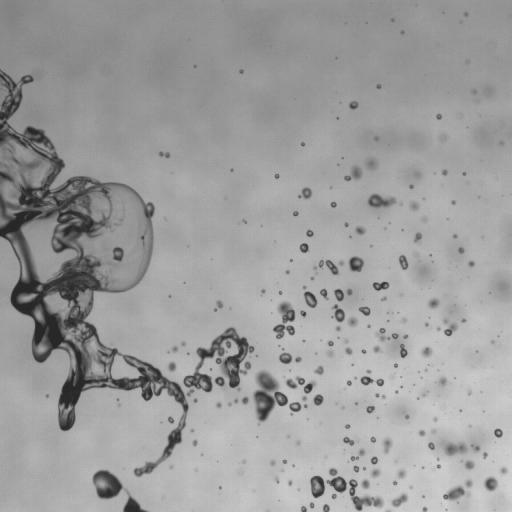droplet: (272, 300, 296, 339), (442, 441, 468, 456), (442, 317, 458, 336), (344, 165, 362, 181), (389, 492, 408, 507), (331, 303, 345, 322), (348, 256, 364, 272), (483, 476, 498, 491), (392, 469, 406, 485), (364, 157, 378, 170), (372, 281, 389, 291), (382, 437, 392, 454), (298, 187, 312, 199), (427, 297, 440, 309), (420, 346, 433, 358), (460, 459, 474, 470), (398, 254, 408, 269), (416, 388, 429, 399), (435, 376, 449, 386), (312, 394, 324, 405), (369, 467, 381, 478), (333, 288, 343, 301), (358, 306, 371, 316), (347, 316, 358, 327), (6, 115, 17, 126), (13, 122, 24, 133), (408, 190, 419, 201), (9, 259, 20, 270), (339, 263, 350, 274), (265, 287, 276, 298), (291, 300, 302, 311), (430, 315, 441, 326), (23, 316, 34, 327), (102, 336, 113, 347), (389, 339, 400, 350), (333, 341, 344, 352), (51, 347, 62, 358), (316, 354, 327, 365), (245, 369, 256, 380), (57, 371, 68, 382), (429, 382, 440, 393), (192, 387, 203, 398), (78, 389, 89, 400), (285, 389, 296, 400), (246, 399, 257, 410), (358, 437, 369, 448), (434, 440, 445, 451), (371, 444, 382, 455), (434, 444, 445, 455), (464, 449, 475, 460), (439, 453, 450, 464), (358, 455, 369, 466), (283, 467, 294, 478), (115, 470, 126, 481), (379, 470, 390, 481), (353, 471, 364, 482), (473, 478, 484, 489), (354, 486, 365, 497), (365, 486, 376, 497), (116, 492, 127, 503), (319, 492, 330, 503), (213, 300, 223, 311), (166, 361, 176, 372), (313, 365, 324, 375), (413, 232, 422, 244), (320, 288, 329, 300), (409, 201, 419, 211), (355, 225, 365, 235), (299, 243, 309, 253), (372, 344, 383, 353), (166, 345, 178, 353), (348, 100, 358, 109), (438, 133, 448, 142), (240, 395, 250, 404), (499, 466, 508, 476), (494, 428, 502, 439), (361, 478, 369, 489), (158, 151, 170, 158), (20, 83, 29, 92), (368, 149, 377, 158), (376, 159, 385, 168), (360, 167, 369, 176), (48, 181, 57, 190), (412, 209, 421, 218), (454, 237, 463, 246), (461, 252, 470, 261), (269, 302, 278, 311), (390, 314, 399, 323), (273, 315, 282, 324), (351, 345, 360, 354), (168, 352, 177, 361), (243, 352, 252, 361), (160, 368, 169, 377), (352, 379, 361, 388), (416, 379, 425, 388), (279, 384, 288, 393), (133, 386, 142, 395), (115, 387, 124, 396), (52, 388, 61, 397), (180, 428, 189, 437), (423, 433, 432, 442), (450, 436, 459, 445), (374, 439, 383, 448), (349, 445, 358, 454), (452, 451, 461, 460), (109, 466, 118, 475), (464, 469, 473, 478), (490, 469, 499, 478), (321, 472, 330, 481), (324, 484, 333, 493), (316, 495, 325, 504), (382, 499, 391, 508), (470, 444, 480, 452), (344, 347, 353, 355), (325, 349, 334, 357), (366, 405, 375, 413), (370, 456, 378, 465), (361, 505, 372, 511), (394, 505, 405, 511), (322, 503, 330, 511), (306, 229, 313, 237), (467, 260, 475, 267), (299, 310, 306, 318), (326, 340, 334, 347), (215, 401, 222, 409), (428, 442, 435, 450), (414, 171, 421, 178), (389, 372, 396, 379), (418, 429, 425, 436), (370, 436, 377, 443), (236, 468, 243, 475), (12, 75, 19, 82), (32, 122, 39, 129), (43, 129, 50, 136), (344, 168, 351, 175), (98, 176, 105, 183), (380, 192, 387, 199), (414, 196, 421, 203), (402, 202, 409, 209), (377, 205, 384, 212), (150, 214, 157, 221), (357, 220, 364, 227), (348, 224, 355, 231), (351, 231, 358, 238), (303, 236, 310, 243), (412, 242, 419, 249), (353, 250, 360, 257), (150, 252, 157, 259), (285, 262, 292, 269), (343, 262, 350, 269), (10, 278, 17, 285), (92, 289, 99, 296), (327, 290, 334, 297), (4, 291, 11, 298), (314, 292, 321, 299), (426, 293, 433, 300), (278, 295, 285, 302), (337, 301, 344, 308), (302, 304, 309, 311), (433, 305, 440, 312), (10, 307, 17, 314), (293, 311, 300, 318), (84, 315, 91, 322), (448, 316, 455, 323), (340, 319, 347, 326), (456, 321, 463, 328), (217, 327, 224, 334), (384, 329, 391, 336), (236, 330, 243, 337), (396, 336, 403, 343), (246, 338, 253, 345), (373, 338, 380, 345), (377, 340, 384, 347), (419, 341, 426, 348), (203, 342, 210, 349), (366, 347, 373, 354), (50, 348, 57, 355), (45, 355, 52, 362), (193, 355, 200, 362), (424, 355, 431, 362), (438, 370, 445, 377), (445, 374, 452, 381), (176, 378, 183, 385), (369, 381, 376, 388), (211, 382, 218, 389), (297, 383, 304, 390), (442, 383, 449, 390), (180, 385, 187, 392), (160, 388, 167, 395), (309, 389, 316, 396), (184, 395, 191, 402), (286, 396, 293, 403), (175, 402, 182, 409), (272, 402, 279, 409), (282, 403, 289, 410), (434, 409, 441, 416), (429, 421, 436, 428), (71, 422, 78, 429), (170, 422, 177, 429), (384, 431, 391, 438), (288, 437, 295, 444), (161, 439, 168, 446), (173, 442, 180, 449), (388, 445, 395, 452), (149, 455, 156, 462), (164, 456, 171, 463), (138, 460, 145, 467), (396, 462, 403, 469), (99, 463, 106, 470), (367, 463, 374, 470), (92, 465, 99, 472), (404, 471, 411, 478), (483, 471, 490, 478), (367, 476, 374, 483), (279, 478, 286, 485), (457, 479, 464, 486), (479, 484, 486, 491), (442, 486, 449, 493), (493, 486, 500, 493), (90, 489, 97, 496), (405, 489, 412, 496), (392, 491, 399, 498), (307, 494, 314, 501), (458, 494, 465, 501), (445, 498, 452, 505), (399, 501, 406, 508), (439, 402, 445, 410), (168, 416, 174, 424), (482, 451, 488, 459), (313, 506, 322, 511), (413, 251, 419, 258), (346, 288, 352, 295), (400, 317, 407, 323), (432, 416, 438, 423), (353, 465, 359, 472), (300, 505, 307, 511), (436, 113, 442, 119), (441, 169, 447, 175), (330, 201, 336, 207), (421, 216, 427, 222), (458, 247, 464, 253), (338, 260, 344, 266), (335, 325, 341, 331), (180, 341, 186, 347), (295, 440, 301, 446), (308, 502, 314, 508), (380, 296, 387, 301), (386, 310, 393, 315), (192, 439, 197, 446), (270, 459, 275, 466), (274, 476, 279, 483), (471, 89, 477, 94), (274, 173, 279, 179), (292, 211, 298, 216), (343, 338, 348, 344), (346, 380, 351, 386), (344, 424, 350, 429), (431, 428, 436, 434), (288, 479, 292, 486), (507, 466, 511, 473), (305, 507, 312, 511), (376, 84, 381, 89), (374, 136, 379, 141), (499, 140, 504, 145), (242, 218, 247, 223), (436, 326, 441, 331), (404, 414, 409, 419), (422, 506, 427, 511), (460, 15, 465, 20), (4, 69, 9, 74), (19, 71, 24, 76), (376, 79, 381, 84), (347, 97, 352, 102), (355, 97, 360, 102), (18, 102, 23, 107), (344, 104, 349, 109), (16, 106, 21, 111), (353, 107, 358, 112), (350, 108, 355, 113), (440, 112, 445, 117), (161, 148, 166, 153), (169, 152, 174, 157), (57, 153, 62, 158), (154, 153, 159, 158), (160, 155, 165, 160), (62, 158, 67, 163), (337, 158, 342, 163), (441, 164, 446, 169), (436, 169, 441, 174), (446, 170, 451, 175), (79, 171, 84, 176), (110, 177, 115, 182), (350, 177, 355, 182), (119, 178, 124, 183), (124, 180, 129, 185), (128, 182, 133, 187), (303, 182, 308, 187), (300, 183, 305, 188), (306, 183, 311, 188), (138, 191, 143, 196), (309, 194, 314, 199), (364, 194, 369, 199), (305, 197, 310, 202), (395, 197, 400, 202), (143, 198, 148, 203), (152, 201, 157, 206), (369, 205, 374, 210), (386, 224, 391, 229), (415, 227, 420, 232), (418, 228, 423, 233), (454, 229, 459, 234), (152, 232, 157, 237), (410, 233, 415, 238), (420, 235, 425, 240), (152, 241, 157, 246), (459, 242, 464, 247), (151, 248, 156, 253), (453, 248, 458, 253), (299, 251, 304, 256), (349, 252, 354, 257), (361, 256, 366, 261), (405, 256, 410, 261), (470, 256, 475, 261), (149, 257, 154, 262), (463, 259, 468, 264), (333, 260, 338, 265), (395, 262, 400, 267), (473, 262, 478, 267), (322, 263, 327, 268), (147, 264, 152, 269), (336, 265, 341, 270), (360, 265, 365, 270), (466, 265, 471, 270), (470, 265, 475, 270), (352, 269, 357, 274), (309, 270, 314, 275), (143, 272, 148, 277), (313, 274, 318, 279), (377, 278, 382, 283), (138, 280, 143, 285), (135, 283, 140, 288), (333, 284, 338, 289), (132, 285, 137, 290), (305, 286, 310, 291), (129, 287, 134, 292), (370, 287, 375, 292), (300, 288, 305, 293), (341, 288, 346, 293), (351, 288, 356, 293), (379, 288, 384, 293), (111, 291, 116, 296), (221, 299, 226, 304), (359, 302, 364, 307), (367, 303, 372, 308), (342, 307, 347, 312), (398, 312, 403, 317), (343, 315, 348, 320), (423, 317, 428, 322), (427, 319, 432, 324), (285, 320, 290, 325), (334, 320, 339, 325), (337, 321, 342, 326), (224, 323, 229, 328), (443, 324, 448, 329), (293, 326, 298, 331), (431, 326, 436, 331), (95, 328, 100, 333), (282, 328, 287, 333), (439, 329, 444, 334), (272, 330, 277, 335), (335, 330, 340, 335), (451, 330, 456, 335), (492, 335, 497, 340), (98, 336, 103, 341), (182, 336, 187, 341), (278, 337, 283, 342), (331, 337, 336, 342), (175, 341, 180, 346), (345, 342, 350, 347), (426, 342, 431, 347), (342, 343, 347, 348), (324, 344, 329, 349), (166, 345, 171, 350), (177, 345, 182, 350), (395, 346, 400, 351), (116, 347, 121, 352), (283, 347, 288, 352), (340, 348, 345, 353), (252, 349, 257, 354), (130, 351, 135, 356), (375, 351, 380, 356), (28, 353, 33, 358), (344, 353, 349, 358), (140, 356, 145, 361), (290, 358, 295, 363), (33, 360, 38, 365), (249, 360, 254, 365), (174, 361, 179, 366), (152, 362, 157, 367), (280, 362, 285, 367), (285, 362, 290, 367), (312, 364, 317, 369), (322, 366, 327, 371), (188, 370, 193, 375), (419, 370, 424, 375), (298, 372, 303, 377), (368, 373, 373, 378), (434, 376, 439, 381), (355, 378, 360, 383), (303, 379, 308, 384), (237, 382, 242, 387), (103, 386, 108, 391), (320, 391, 325, 396), (414, 391, 419, 396), (151, 393, 156, 398), (169, 395, 174, 400), (237, 395, 242, 400), (138, 396, 143, 401), (228, 396, 233, 401), (237, 399, 242, 404), (321, 399, 326, 404), (299, 400, 304, 405), (211, 401, 216, 406), (221, 401, 226, 406), (367, 401, 372, 406), (314, 404, 319, 409), (213, 406, 218, 411), (373, 406, 378, 411), (53, 410, 58, 415), (369, 411, 374, 416), (184, 418, 189, 423), (54, 423, 59, 428), (419, 425, 424, 430), (68, 427, 73, 432), (64, 429, 69, 434), (424, 429, 429, 434), (501, 432, 506, 437), (348, 435, 353, 440), (344, 442, 349, 447), (433, 442, 438, 447), (465, 443, 470, 448), (478, 449, 483, 454), (352, 451, 357, 456), (485, 455, 490, 460), (265, 458, 270, 463), (352, 460, 357, 465), (460, 462, 465, 467), (331, 463, 336, 468), (357, 463, 362, 468), (373, 463, 378, 468), (497, 463, 502, 468), (152, 467, 157, 472), (129, 471, 134, 476), (141, 472, 146, 477), (503, 472, 508, 477), (287, 474, 292, 479), (328, 474, 333, 479), (133, 475, 138, 480), (344, 477, 349, 482), (395, 477, 400, 482), (306, 483, 311, 488), (334, 490, 339, 495), (406, 495, 411, 500), (139, 504, 144, 509), (278, 289, 282, 295), (424, 322, 428, 328), (467, 389, 471, 395), (0, 235, 3, 242), (463, 12, 468, 16), (300, 142, 305, 146), (451, 200, 455, 205), (344, 222, 348, 227), (452, 234, 457, 238), (461, 318, 466, 322), (403, 334, 408, 338), (490, 340, 495, 344), (361, 349, 366, 353), (45, 393, 49, 398), (192, 398, 197, 402), (190, 428, 194, 433), (242, 459, 246, 464), (282, 459, 287, 463), (362, 466, 366, 471), (390, 18, 394, 22), (400, 30, 404, 34), (239, 69, 243, 73), (462, 171, 466, 175), (409, 184, 413, 188), (289, 258, 293, 262), (285, 270, 289, 274), (310, 276, 314, 280), (393, 363, 397, 367), (169, 465, 173, 469), (194, 467, 198, 471), (409, 485, 413, 489), (421, 494, 425, 498), (296, 508, 301, 511), (328, 508, 333, 511), (353, 508, 358, 511), (417, 508, 422, 511), (426, 508, 431, 511), (193, 64, 196, 68), (230, 168, 233, 172), (399, 202, 402, 206), (369, 244, 373, 247), (399, 293, 403, 296), (168, 294, 171, 298), (186, 352, 190, 355), (254, 354, 258, 357), (350, 363, 354, 366), (424, 367, 427, 371), (420, 375, 423, 379), (394, 390, 398, 393), (354, 402, 358, 405), (340, 406, 344, 409), (286, 435, 290, 438), (436, 457, 439, 461), (218, 486, 222, 489), (297, 487, 300, 491), (329, 186, 332, 189), (446, 217, 449, 220), (386, 319, 389, 322), (367, 324, 370, 327), (302, 339, 305, 342), (475, 350, 478, 353), (209, 368, 212, 371), (354, 376, 357, 379), (400, 385, 403, 388), (116, 398, 119, 401), (459, 409, 462, 412), (468, 424, 471, 427), (200, 453, 203, 456), (324, 455, 327, 458), (394, 460, 397, 463), (292, 464, 295, 467), (421, 466, 424, 469), (467, 12, 470, 15), (403, 29, 406, 32), (193, 61, 196, 64), (190, 65, 193, 68), (239, 66, 242, 69), (242, 70, 245, 73), (238, 72, 241, 75), (31, 74, 34, 77), (373, 84, 376, 87), (380, 84, 383, 87), (374, 87, 377, 90), (379, 87, 382, 90), (436, 110, 439, 113), (338, 116, 341, 119), (433, 116, 436, 119), (440, 116, 443, 119), (333, 117, 336, 120), (436, 118, 439, 121), (299, 145, 302, 148), (155, 151, 158, 154), (340, 153, 343, 156), (343, 156, 346, 159), (227, 166, 230, 169), (232, 167, 235, 170), (227, 169, 230, 172), (460, 169, 463, 172), (275, 170, 278, 173), (230, 171, 233, 174), (459, 172, 462, 175), (465, 172, 468, 175), (278, 173, 281, 176), (271, 174, 274, 177), (441, 174, 444, 177), (462, 175, 465, 178), (275, 178, 278, 181), (343, 179, 346, 182), (410, 181, 413, 184), (412, 184, 415, 187), (406, 185, 409, 188), (411, 187, 414, 190), (135, 189, 138, 192), (295, 196, 298, 199), (452, 197, 455, 200), (330, 198, 333, 201), (448, 199, 451, 202), (455, 200, 458, 203), (335, 201, 338, 204), (450, 203, 453, 206), (328, 205, 331, 208), (334, 205, 337, 208), (296, 208, 299, 211), (290, 209, 293, 212), (289, 212, 292, 215), (294, 215, 297, 218), (244, 217, 247, 220), (238, 218, 241, 221), (246, 220, 249, 223), (241, 221, 244, 224), (341, 223, 344, 226), (400, 225, 403, 228), (345, 226, 348, 229), (309, 227, 312, 230), (397, 228, 400, 231), (403, 228, 406, 231), (312, 231, 315, 234), (450, 232, 453, 235), (345, 234, 348, 237), (310, 235, 313, 238), (347, 237, 350, 240), (454, 237, 457, 240), (370, 241, 373, 244), (9, 246, 12, 249), (307, 246, 310, 249), (370, 246, 373, 249), (297, 248, 300, 251), (428, 250, 431, 253), (398, 252, 401, 255), (431, 253, 434, 256), (13, 255, 16, 258), (427, 255, 430, 258), (291, 256, 294, 259), (286, 258, 289, 261), (322, 258, 325, 261), (396, 260, 399, 263), (289, 261, 292, 264), (315, 263, 318, 266), (406, 266, 409, 269), (284, 267, 287, 270), (282, 270, 285, 273), (288, 271, 291, 274), (285, 273, 288, 276), (307, 276, 310, 279), (383, 278, 386, 281), (180, 279, 183, 282), (185, 280, 188, 283), (182, 283, 185, 286), (299, 284, 302, 287), (321, 285, 324, 288), (259, 286, 262, 289), (263, 286, 266, 289), (281, 289, 284, 292), (264, 290, 267, 293), (258, 291, 261, 294), (275, 291, 278, 294), (165, 292, 168, 295), (170, 295, 173, 298), (167, 297, 170, 300), (382, 300, 385, 303), (216, 307, 219, 310), (210, 308, 213, 311), (384, 308, 387, 311), (396, 308, 399, 311), (369, 310, 372, 313), (213, 311, 216, 314), (359, 311, 362, 314), (393, 311, 396, 314), (385, 316, 388, 319), (459, 316, 462, 319), (464, 316, 467, 319), (421, 323, 424, 326), (380, 324, 383, 327), (427, 324, 430, 327), (367, 327, 370, 330), (394, 330, 397, 333), (404, 331, 407, 334), (498, 332, 501, 335), (444, 334, 447, 337), (302, 336, 305, 339), (339, 336, 342, 339), (384, 338, 387, 341), (300, 341, 303, 344), (303, 341, 306, 344), (110, 345, 113, 348), (330, 345, 333, 348), (363, 346, 366, 349), (475, 346, 478, 349), (314, 348, 317, 351), (406, 349, 409, 352), (280, 350, 283, 353), (183, 351, 186, 354), (360, 352, 363, 355), (397, 353, 400, 356), (313, 354, 316, 357), (404, 355, 407, 358), (350, 360, 353, 363), (392, 360, 395, 363), (390, 363, 393, 366), (397, 363, 400, 366), (351, 365, 354, 368), (426, 365, 429, 368), (367, 366, 370, 369), (394, 367, 397, 370), (396, 375, 399, 378), (401, 376, 404, 379), (455, 376, 458, 379), (343, 380, 346, 383), (383, 380, 386, 383), (412, 380, 415, 383), (398, 382, 401, 385), (360, 383, 363, 386), (409, 383, 412, 386), (345, 384, 348, 387), (402, 384, 405, 387), (377, 385, 380, 388), (412, 385, 415, 388), (397, 387, 400, 390), (424, 387, 427, 390), (471, 389, 474, 392), (43, 391, 46, 394), (464, 391, 467, 394), (393, 392, 396, 395), (427, 392, 430, 395), (469, 393, 472, 396), (42, 395, 45, 398), (418, 395, 421, 398), (354, 398, 357, 401), (416, 399, 419, 402), (116, 400, 119, 403), (231, 402, 234, 405), (351, 402, 354, 405), (458, 405, 461, 408), (363, 407, 366, 410), (461, 408, 464, 411), (456, 410, 459, 413), (365, 411, 368, 414), (404, 411, 407, 414), (408, 414, 411, 417), (164, 417, 167, 420), (406, 418, 409, 421), (436, 419, 439, 422), (166, 420, 169, 423), (347, 421, 350, 424), (496, 425, 499, 428), (348, 426, 351, 429), (499, 426, 502, 429), (254, 432, 257, 435), (491, 432, 494, 435), (368, 434, 371, 437), (373, 434, 376, 437), (493, 435, 496, 438), (340, 436, 343, 439), (254, 437, 257, 440), (367, 438, 370, 441), (196, 441, 199, 444), (300, 441, 303, 444), (353, 441, 356, 444), (370, 441, 373, 444), (425, 441, 428, 444), (192, 445, 195, 448), (427, 447, 430, 450), (485, 449, 488, 452), (372, 453, 375, 456), (200, 455, 203, 458), (369, 455, 372, 458), (376, 455, 379, 458), (281, 456, 284, 459), (284, 456, 287, 459), (347, 457, 350, 460), (286, 459, 289, 462), (279, 460, 282, 463), (435, 461, 438, 464), (421, 462, 424, 465), (283, 463, 286, 466), (294, 464, 297, 467), (433, 464, 436, 467), (418, 466, 421, 469), (358, 467, 361, 470), (435, 467, 438, 470), (421, 468, 424, 471), (278, 478, 281, 481), (273, 480, 276, 483), (285, 481, 288, 484), (389, 481, 392, 484), (291, 482, 294, 485), (220, 484, 223, 487), (392, 484, 395, 487), (215, 485, 218, 488), (288, 485, 291, 488), (219, 488, 222, 491), (421, 491, 424, 494), (424, 495, 427, 498), (440, 496, 443, 499), (424, 504, 427, 507), (229, 306, 231, 310), (118, 403, 120, 407), (280, 469, 284, 471), (433, 172, 436, 174), (422, 197, 425, 199), (384, 227, 386, 230), (349, 235, 351, 238), (429, 253, 431, 256), (270, 312, 273, 314), (314, 352, 317, 354), (376, 417, 379, 419), (445, 508, 447, 511), (442, 509, 445, 511), (446, 509, 449, 511), (335, 57, 337, 59), (336, 117, 338, 119), (341, 157, 343, 159), (337, 163, 339, 165), (388, 222, 390, 224), (401, 229, 403, 231), (183, 281, 185, 283), (428, 316, 430, 318), (497, 335, 499, 337), (337, 336, 339, 338), (278, 344, 280, 346), (437, 369, 439, 371), (400, 376, 402, 378), (453, 377, 455, 379), (413, 384, 415, 386), (344, 387, 346, 389), (306, 418, 308, 420), (160, 421, 162, 423), (347, 460, 349, 462), (478, 196, 480, 197), (187, 245, 188, 247), (427, 364, 429, 365), (480, 391, 482, 392), (483, 410, 484, 412), (256, 436, 258, 437), (397, 312, 398, 313), (414, 465, 415, 466)
ligament: (442, 478, 473, 503), (367, 193, 396, 208), (302, 285, 317, 308), (374, 328, 399, 341), (350, 448, 365, 461), (342, 436, 360, 445), (399, 343, 407, 358), (227, 397, 238, 407), (374, 393, 385, 399), (432, 464, 441, 471), (260, 288, 265, 296), (383, 509, 393, 511), (264, 509, 270, 511), (287, 369, 291, 371), (320, 339, 322, 342)
